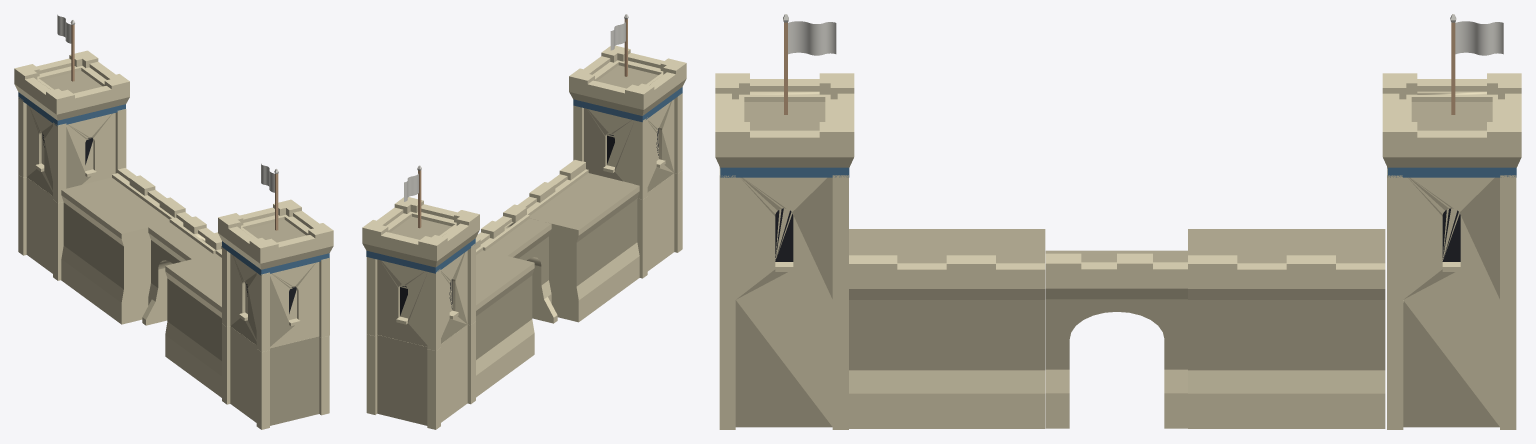
File: 3level.obj
The picture shows the model from 3 angles, left to right: view 1: azimuth 30°, elevation 25°; view 2: azimuth 150°, elevation 25°; view 3: azimuth 270°, elevation 25°; orthographic projection. The views are drawn at different scales.
Parts seen in each view (by area): view 1: wallHalf.003_wallHalf.001, towerSquareMid.012_towerSquareMid.001, towerSquareMidWindows.025, towerSquareMidWindows.026, wallHalf.002_wallHalf.004, towerSquareTopColor.011, towerSquareTopColor.010, wallNarrowGate.003, towerSquareMid.011_towerSquareMid.001, flagWhiteWide.011, flagWhiteWide.010; view 2: wallHalf.002_wallHalf.004, towerSquareMid.011_towerSquareMid.001, towerSquareMidWindows.026, towerSquareMidWindows.025, wallHalf.003_wallHalf.001, towerSquareTopColor.010, towerSquareTopColor.011, wallNarrowGate.003, towerSquareMid.012_towerSquareMid.001, flagWhiteWide.011, flagWhiteWide.010; view 3: wallHalf.003_wallHalf.001, wallHalf.002_wallHalf.004, towerSquareMid.012_towerSquareMid.001, towerSquareMid.011_towerSquareMid.001, towerSquareMidWindows.025, towerSquareMidWindows.026, wallNarrowGate.003, towerSquareTopColor.011, towerSquareTopColor.010, flagWhiteWide.011, flagWhiteWide.010.
Boxes of the visible parts, box(x1,y1,x2,y2) form: wallHalf.003_wallHalf.001: box(61, 168, 185, 324); towerSquareMid.012_towerSquareMid.001: box(222, 323, 329, 429); towerSquareMidWindows.025: box(222, 247, 329, 352); towerSquareMidWindows.026: box(18, 97, 126, 202); wallHalf.002_wallHalf.004: box(165, 245, 221, 397); towerSquareTopColor.011: box(14, 50, 129, 125); towerSquareTopColor.010: box(218, 199, 333, 275); wallNarrowGate.003: box(142, 212, 221, 325); towerSquareMid.011_towerSquareMid.001: box(18, 174, 63, 280); flagWhiteWide.011: box(57, 14, 75, 81); flagWhiteWide.010: box(261, 163, 278, 230); wallHalf.002_wallHalf.004: box(517, 160, 639, 322); towerSquareMid.011_towerSquareMid.001: box(366, 322, 475, 429); towerSquareMidWindows.026: box(366, 243, 475, 350); towerSquareMidWindows.025: box(573, 93, 682, 199); wallHalf.003_wallHalf.001: box(475, 238, 534, 397); towerSquareTopColor.010: box(569, 45, 686, 122); towerSquareTopColor.011: box(362, 197, 479, 273); wallNarrowGate.003: box(476, 204, 557, 323); towerSquareMid.012_towerSquareMid.001: box(637, 170, 682, 278); flagWhiteWide.011: box(404, 165, 421, 228); flagWhiteWide.010: box(610, 14, 628, 76); wallHalf.003_wallHalf.001: box(1188, 229, 1385, 428); wallHalf.002_wallHalf.004: box(849, 229, 1045, 428); towerSquareMid.012_towerSquareMid.001: box(719, 300, 848, 429); towerSquareMid.011_towerSquareMid.001: box(1387, 300, 1516, 429); towerSquareMidWindows.025: box(719, 167, 848, 302); towerSquareMidWindows.026: box(1387, 167, 1516, 302); wallNarrowGate.003: box(1045, 250, 1187, 428); towerSquareTopColor.011: box(1382, 73, 1521, 177); towerSquareTopColor.010: box(715, 73, 854, 177); flagWhiteWide.011: box(1450, 14, 1503, 114); flagWhiteWide.010: box(783, 14, 836, 114).
Size of the model in its own units: 10 by 30.89 by 58.01.
